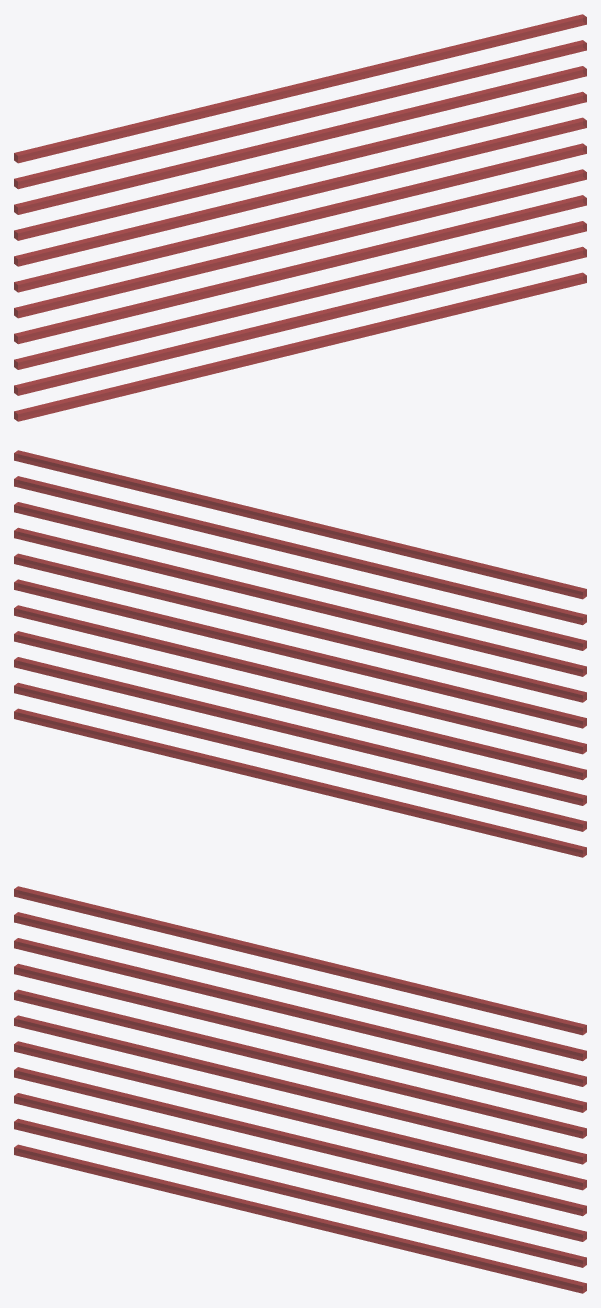
The model's file is Lvl_014.fbx.
The picture shows the model from 3 angles, top to bottom: view 1: azimuth 30°, elevation 25°; view 2: azimuth 150°, elevation 25°; view 3: azimuth 330°, elevation 25°; orthographic projection.
Visible parts, largest first — view 1: pCube14, pCube22, pCube13, pCube17, pCube19, pCube23, pCube16, pCube20, pCube18, pCube15, pCube21; view 2: pCube14, pCube22, pCube13, pCube17, pCube19, pCube23, pCube16, pCube20, pCube18, pCube15, pCube21; view 3: pCube14, pCube22, pCube13, pCube17, pCube19, pCube23, pCube16, pCube20, pCube18, pCube15, pCube21.
Part boxes in pixels (left/top/right/bottom): pCube14: left=14, top=246, right=586, bottom=395; pCube22: left=14, top=40, right=586, bottom=189; pCube13: left=14, top=272, right=586, bottom=421; pCube17: left=14, top=169, right=586, bottom=318; pCube19: left=14, top=117, right=586, bottom=266; pCube23: left=14, top=14, right=586, bottom=163; pCube16: left=14, top=195, right=586, bottom=344; pCube20: left=14, top=91, right=586, bottom=240; pCube18: left=14, top=143, right=586, bottom=292; pCube15: left=14, top=221, right=586, bottom=369; pCube21: left=14, top=66, right=586, bottom=214; pCube14: left=14, top=682, right=586, bottom=831; pCube22: left=14, top=476, right=586, bottom=625; pCube13: left=14, top=708, right=586, bottom=857; pCube17: left=14, top=605, right=586, bottom=754; pCube19: left=14, top=553, right=586, bottom=702; pCube23: left=14, top=450, right=586, bottom=599; pCube16: left=14, top=631, right=586, bottom=780; pCube20: left=14, top=527, right=586, bottom=676; pCube18: left=14, top=579, right=586, bottom=728; pCube15: left=14, top=657, right=586, bottom=805; pCube21: left=14, top=502, right=586, bottom=650; pCube14: left=14, top=1118, right=586, bottom=1267; pCube22: left=14, top=912, right=586, bottom=1061; pCube13: left=14, top=1144, right=586, bottom=1293; pCube17: left=14, top=1041, right=586, bottom=1190; pCube19: left=14, top=989, right=586, bottom=1138; pCube23: left=14, top=886, right=586, bottom=1035; pCube16: left=14, top=1067, right=586, bottom=1216; pCube20: left=14, top=963, right=586, bottom=1112; pCube18: left=14, top=1015, right=586, bottom=1164; pCube15: left=14, top=1093, right=586, bottom=1241; pCube21: left=14, top=938, right=586, bottom=1086.
Size of the model in its own units: 2000 by 893 by 25.
